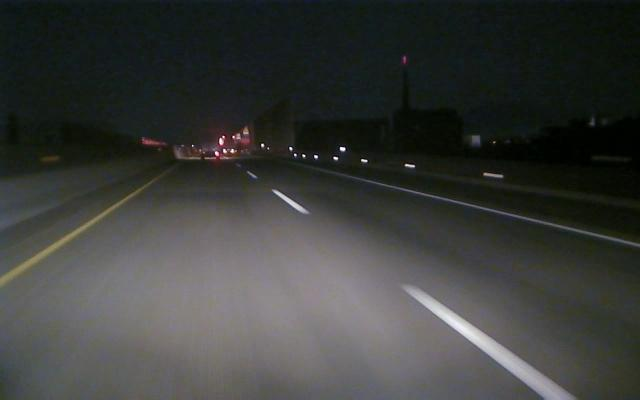lane: (245, 170, 577, 398), (345, 173, 640, 249), (1, 188, 143, 287)
